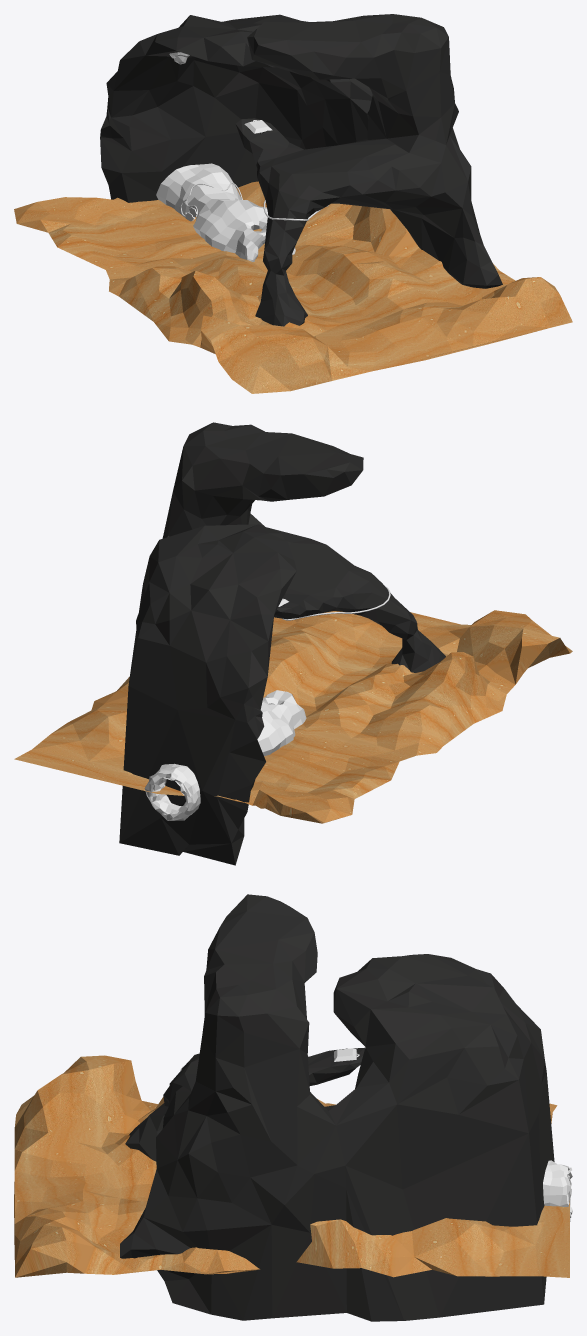
Rendered from CoralPuzzle.fbx.
3 renders of one model, top to bottom at view 1: azimuth 30°, elevation 25°; view 2: azimuth 150°, elevation 25°; view 3: azimuth 270°, elevation 25°, orthographic. The views are drawn at different scales.
Parts seen in each view (by area): view 1: Cube.002, Cube, Torus; view 2: Cube.002, Cube, Torus; view 3: Cube.002, Cube, Torus.
Part boxes in pixels (x1=…): Cube.002: x1=100, y1=14, x2=502, y2=326; Cube: x1=14, y1=181, x2=572, y2=393; Torus: x1=156, y1=163, x2=295, y2=261; Cube.002: x1=119, y1=422, x2=445, y2=865; Cube: x1=14, y1=610, x2=572, y2=823; Torus: x1=144, y1=690, x2=306, y2=820; Cube.002: x1=120, y1=894, x2=554, y2=1321; Cube: x1=14, y1=1055, x2=569, y2=1277; Torus: x1=543, y1=1160, x2=572, y2=1221.
Bounding box in the file's own units: 8436 × 7763 × 11091.
